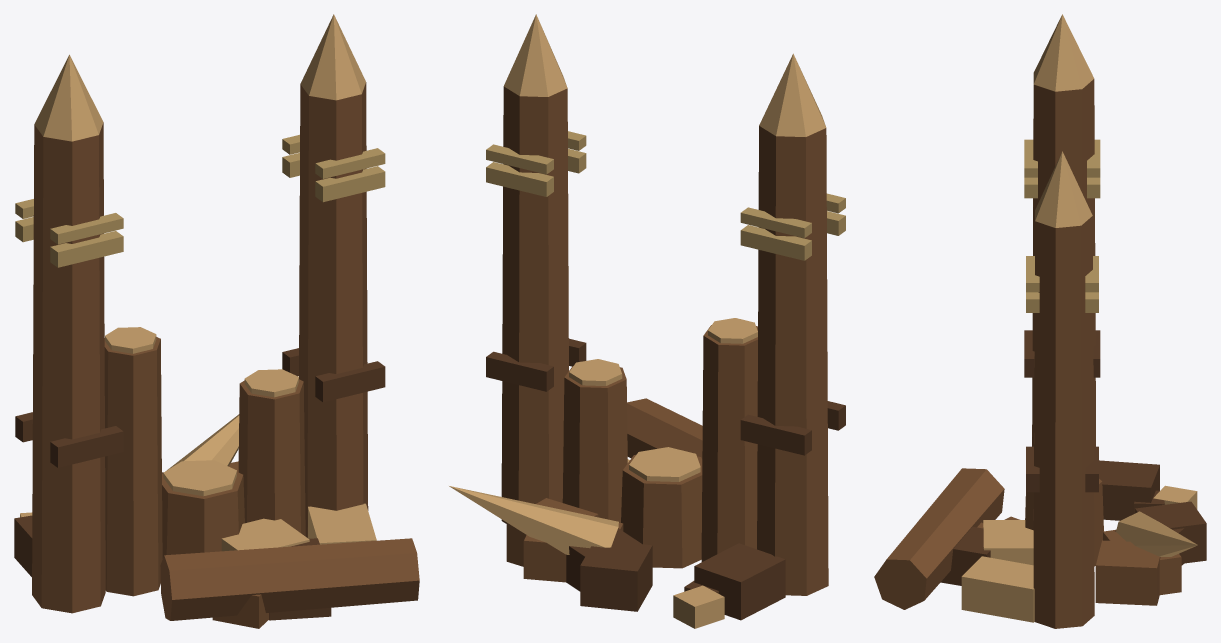
The model's file is palisade_breach.glb.
The picture shows the model from 3 angles, left to right: view 1: azimuth 30°, elevation 25°; view 2: azimuth 150°, elevation 25°; view 3: azimuth 270°, elevation 25°; orthographic projection. The views are drawn at different scales.
Visible parts, largest first — view 1: wall_palisade_breach; view 2: wall_palisade_breach; view 3: wall_palisade_breach.
Part boxes in pixels (left/top/right/bottom): wall_palisade_breach: left=14, top=14, right=419, bottom=628; wall_palisade_breach: left=449, top=14, right=845, bottom=628; wall_palisade_breach: left=874, top=14, right=1206, bottom=628.
Bounding box in the file's own units: 2 × 3.16 × 1.96.
